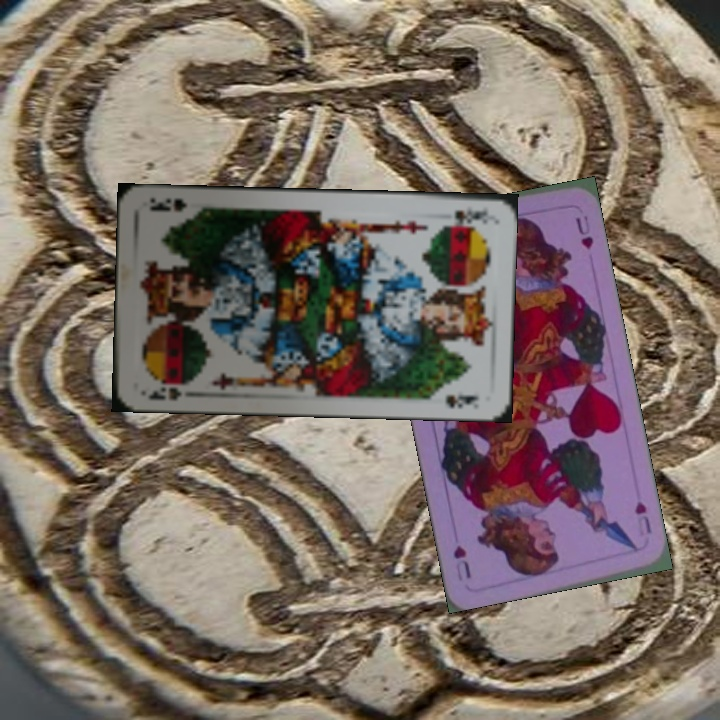HU: (630, 497, 654, 539)
SK: (450, 203, 491, 227), (144, 383, 184, 403)
